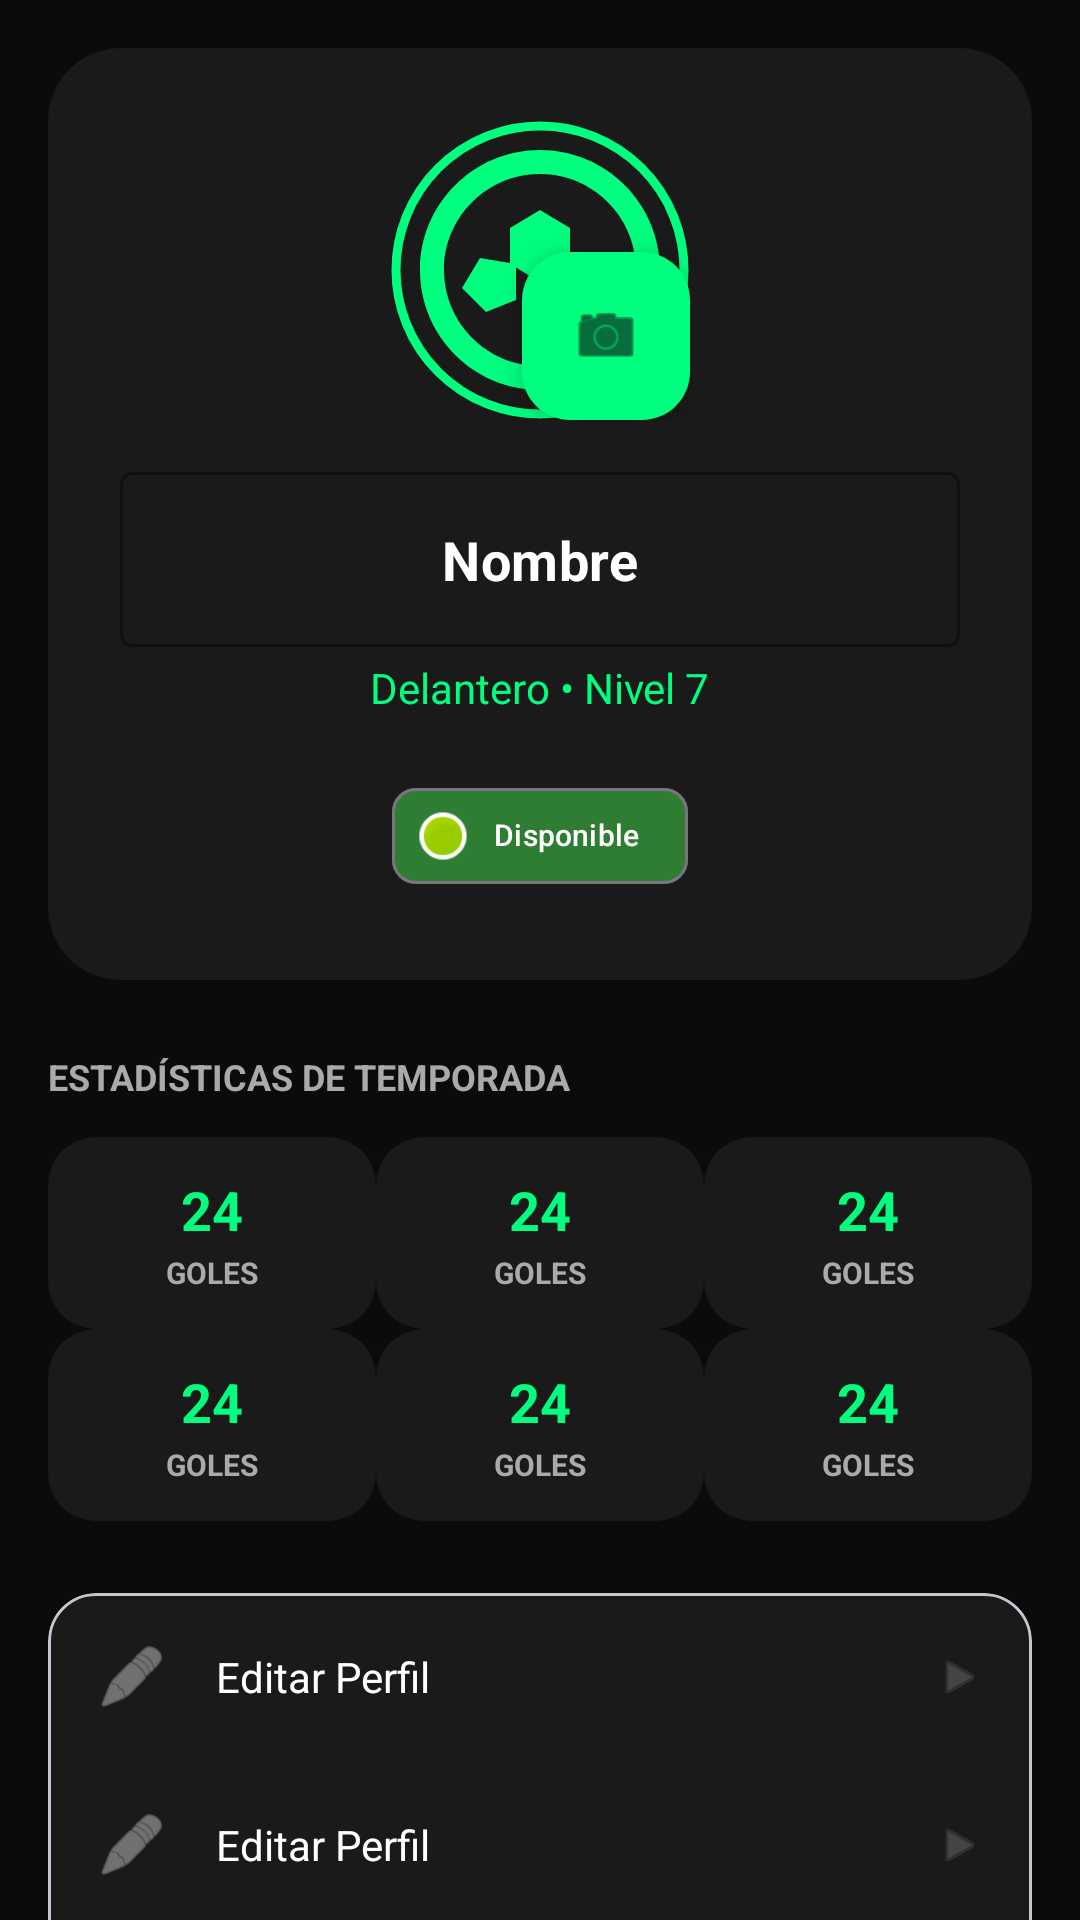

Icons on this 1080x1920 Android screen, each with the point to tap as (x=x, y=y):
play: (x=960, y=1677), (x=960, y=1845)
